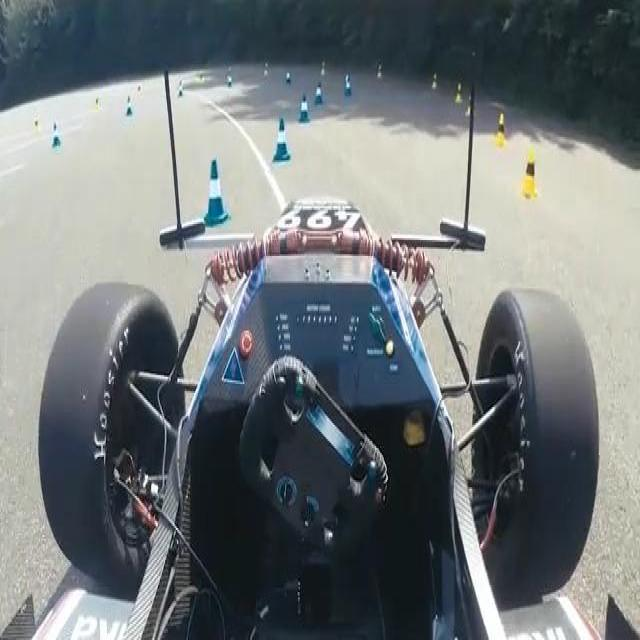blue_cone: (204, 158, 231, 227), (272, 118, 291, 164), (298, 92, 311, 124), (314, 80, 324, 105), (51, 123, 61, 148), (344, 76, 352, 97), (125, 96, 132, 118)
yellow_cone: (519, 151, 539, 198), (493, 112, 509, 148)
